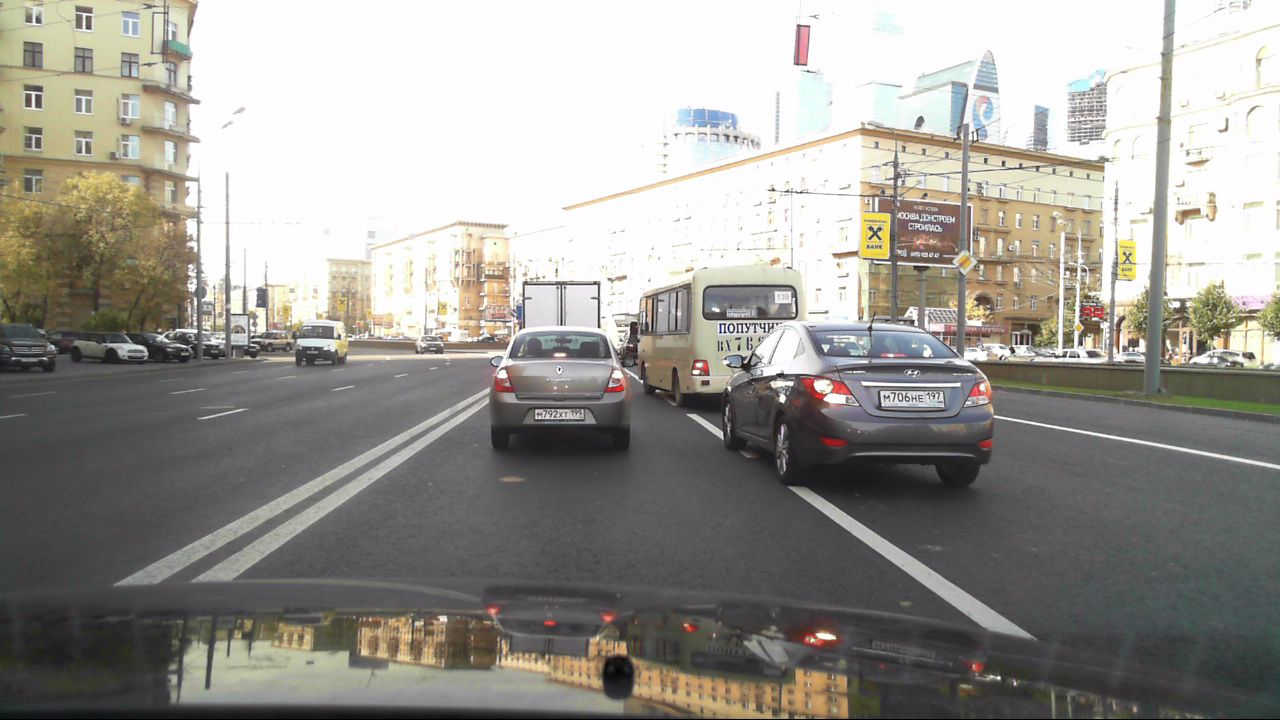main road: (952, 249, 977, 275)
